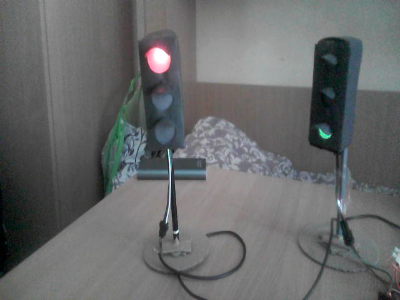trafficlight_green: (309, 41, 347, 148)
trafficlight_red: (137, 35, 182, 144)
